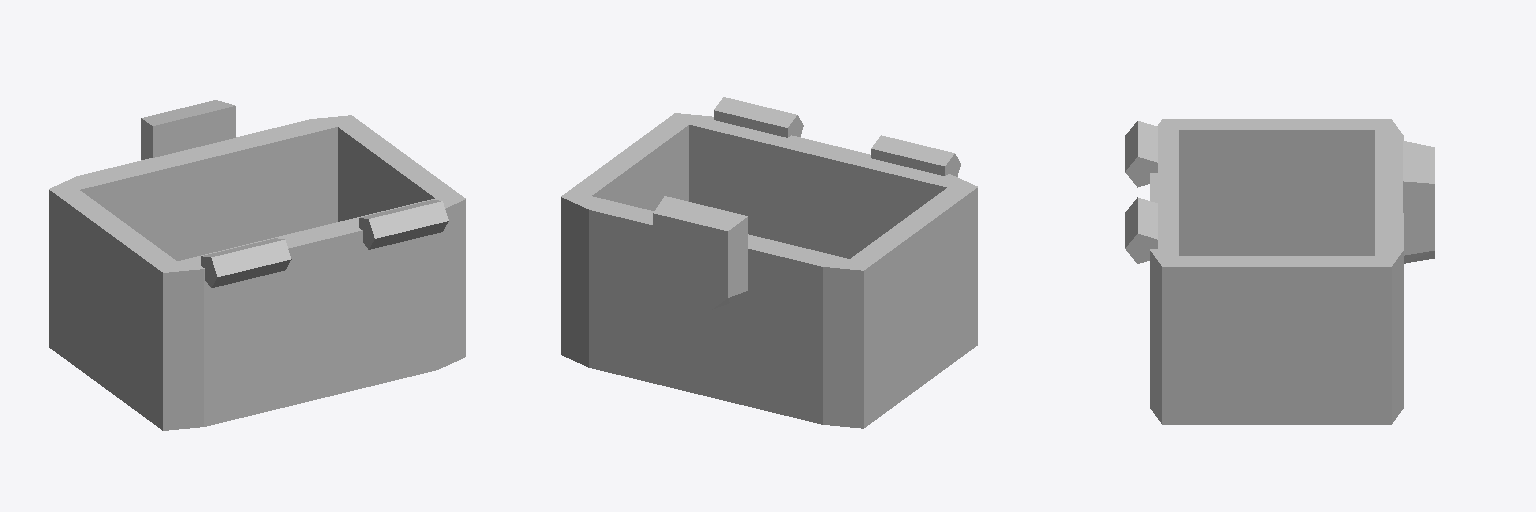
The model's file is Treasure_Chest_Base_03.obj.
3 views of the same model, side by side, from view 1: azimuth 30°, elevation 25°; view 2: azimuth 150°, elevation 25°; view 3: azimuth 270°, elevation 25° (orthographic).
Visible parts, largest first — view 1: Treasure_Chest_Base_02; view 2: Treasure_Chest_Base_02; view 3: Treasure_Chest_Base_02.
Boxes of the visible parts, x1,y1,x2,y2 form: Treasure_Chest_Base_02: [49, 100, 465, 430]; Treasure_Chest_Base_02: [561, 97, 977, 428]; Treasure_Chest_Base_02: [1125, 119, 1434, 424].
Size of the model in its own units: 0.8887 by 0.5321 by 0.7863.